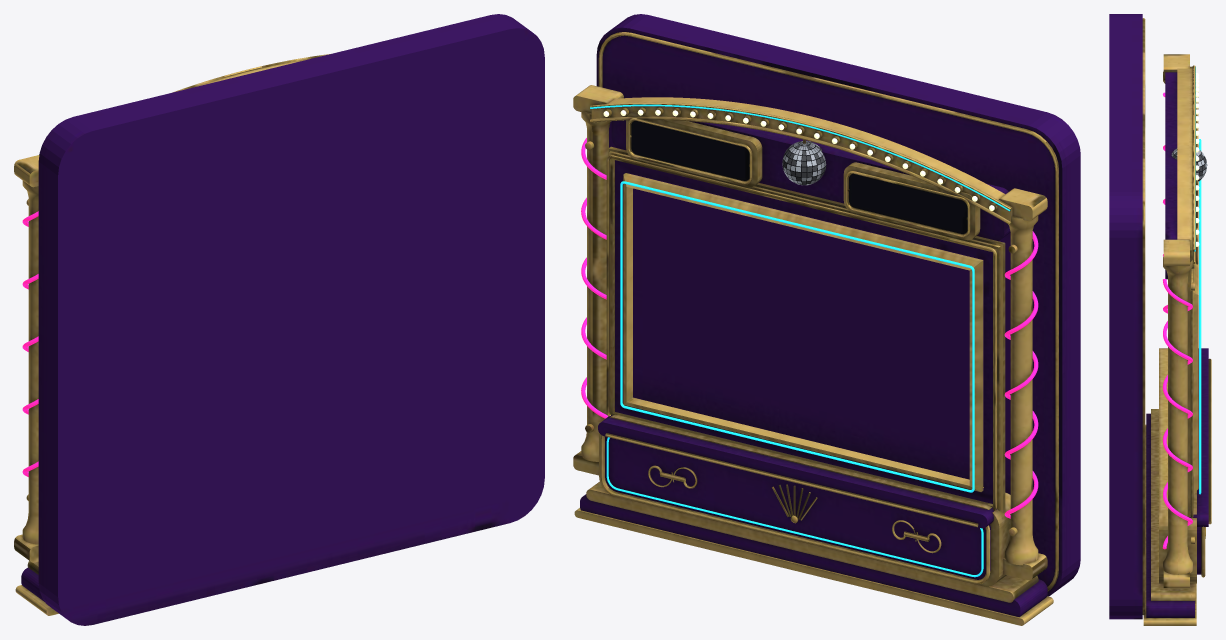
3 renders of one model, left to right at view 1: azimuth 30°, elevation 25°; view 2: azimuth 150°, elevation 25°; view 3: azimuth 270°, elevation 25°, orthographic. The views are drawn at different scales.
Parts seen in each view (by area): view 1: Royal_purple_velvet, Champagne_polished_gold; view 2: Royal_purple_velvet, Champagne_polished_gold, Uniform_dark_display_glass, glow_electric_blue_neon, glow_hot_pink_neon, Disco_mirror_silver, glow_warm_marquee_bulbs; view 3: Royal_purple_velvet, Champagne_polished_gold, glow_hot_pink_neon, glow_electric_blue_neon, glow_warm_marquee_bulbs, Disco_mirror_silver.
Boxes of the visible parts, x1,y1,x2,y2 form: Royal_purple_velvet: (21, 14, 544, 625); Champagne_polished_gold: (14, 54, 329, 615); Royal_purple_velvet: (580, 14, 1080, 617); Champagne_polished_gold: (573, 32, 1058, 625); Uniform_dark_display_glass: (631, 120, 967, 233); glow_electric_blue_neon: (590, 104, 1010, 577); glow_hot_pink_neon: (581, 138, 1038, 518); Disco_mirror_silver: (782, 141, 826, 185); glow_warm_marquee_bulbs: (603, 109, 994, 210); Royal_purple_velvet: (1109, 14, 1208, 619); Champagne_polished_gold: (1142, 18, 1211, 625); glow_hot_pink_neon: (1162, 92, 1192, 549); glow_electric_blue_neon: (1194, 67, 1201, 494); glow_warm_marquee_bulbs: (1196, 73, 1199, 246); Disco_mirror_silver: (1171, 148, 1207, 181).
Bounding box in the file's own units: 9.28 × 9 × 1.97.
7 materials, 4 textured.
